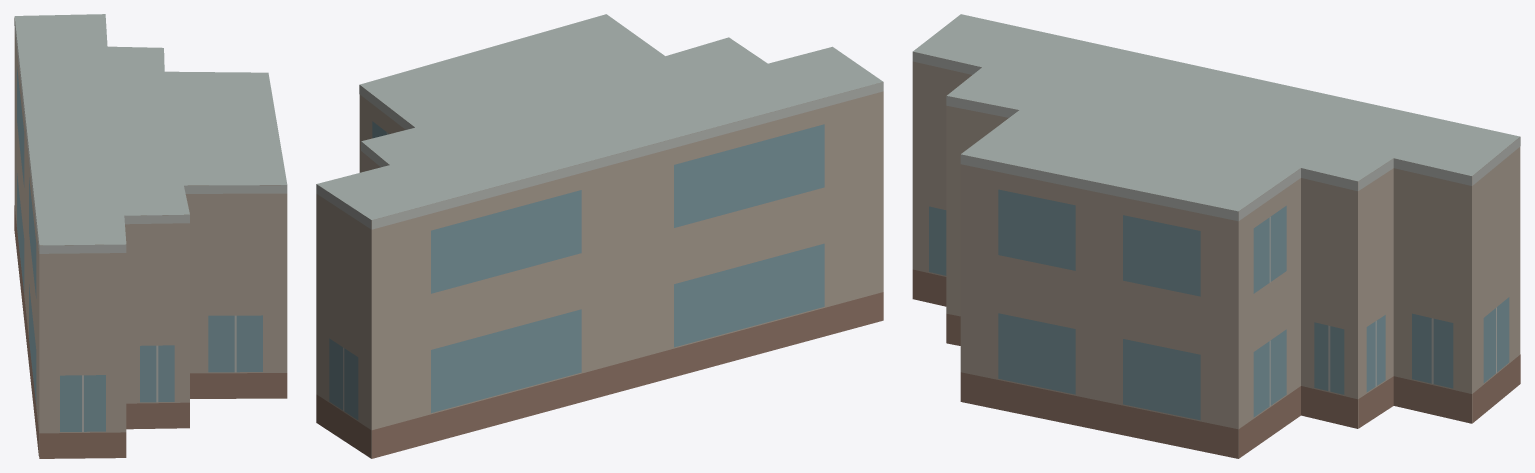
File: survey-upis-32644443.glb
The picture shows the model from 3 angles, left to right: view 1: azimuth 30°, elevation 25°; view 2: azimuth 150°, elevation 25°; view 3: azimuth 270°, elevation 25°; orthographic projection. The views are drawn at different scales.
Parts seen in each view (by area): view 1: survey-upis-32644443.tmp; view 2: survey-upis-32644443.tmp; view 3: survey-upis-32644443.tmp.
Boxes of the visible parts, x1,y1,x2,y2 form: survey-upis-32644443.tmp: (14, 14, 287, 458); survey-upis-32644443.tmp: (316, 14, 883, 458); survey-upis-32644443.tmp: (912, 14, 1520, 458).
Size of the model in its own units: 10.44 by 6.1 by 13.58.
